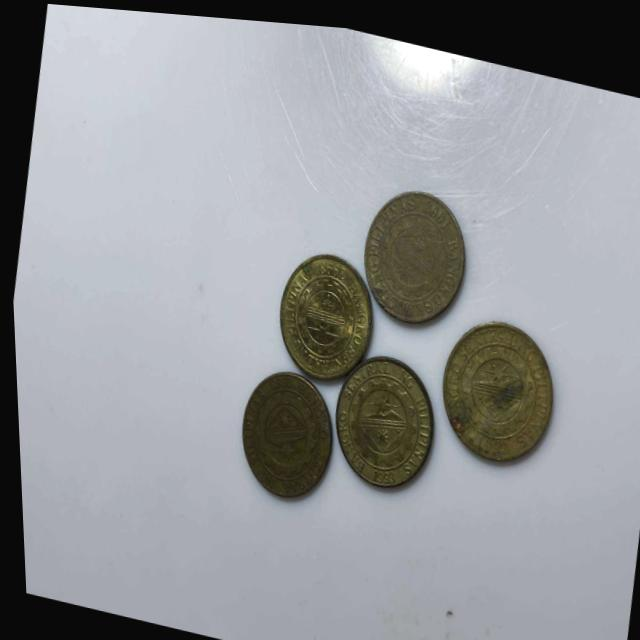25Cent_Old_Back: (352, 173, 469, 334), (430, 307, 548, 460), (328, 338, 438, 484), (227, 362, 339, 505), (270, 238, 376, 376)
